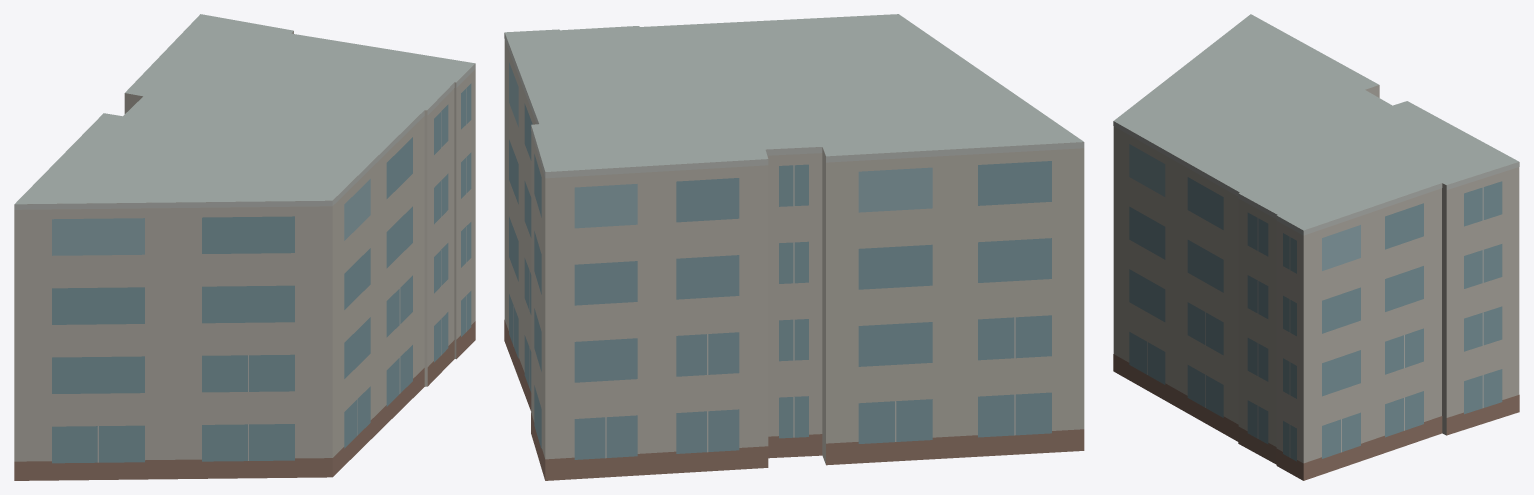
The model's file is survey-upis-32660689.glb.
The picture shows the model from 3 angles, left to right: view 1: azimuth 30°, elevation 25°; view 2: azimuth 150°, elevation 25°; view 3: azimuth 270°, elevation 25°; orthographic projection. The views are drawn at different scales.
Parts seen in each view (by area): view 1: survey-upis-32660689.tmp; view 2: survey-upis-32660689.tmp; view 3: survey-upis-32660689.tmp.
Part boxes in pixels (x1=…): survey-upis-32660689.tmp: x1=14, y1=14, x2=475, y2=480; survey-upis-32660689.tmp: x1=504, y1=14, x2=1084, y2=480; survey-upis-32660689.tmp: x1=1113, y1=14, x2=1519, y2=480.
Bounding box in the file's own units: 22.23 × 11.98 × 17.62.
